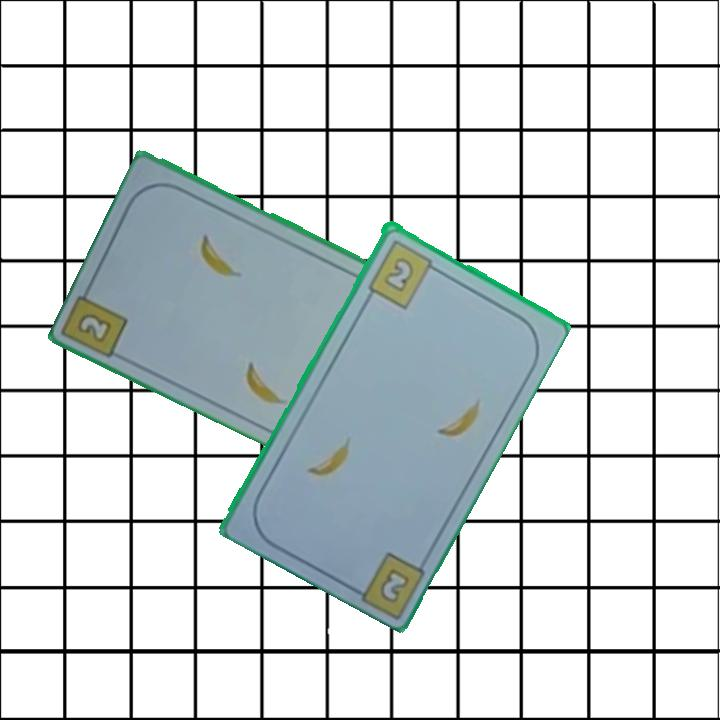2b: (364, 235, 442, 311), (375, 564, 413, 606), (73, 309, 116, 346)
